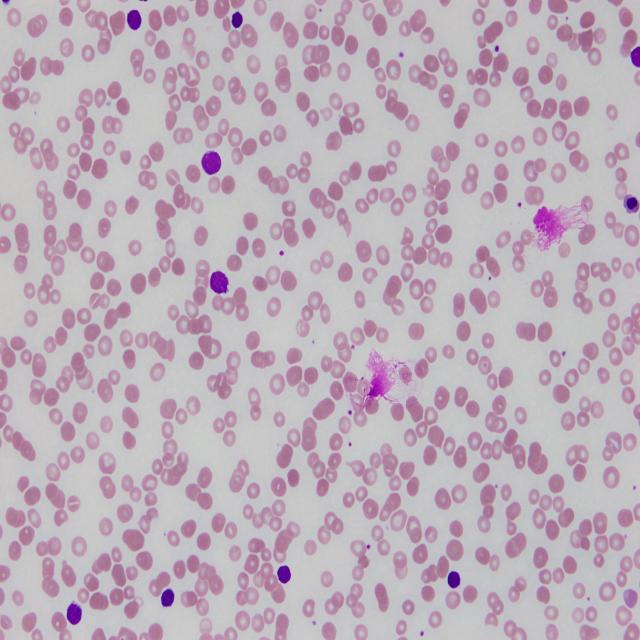cell: (201, 152, 221, 175), (210, 270, 229, 293), (66, 602, 82, 625), (126, 10, 141, 30), (161, 588, 175, 607), (278, 565, 291, 583), (448, 572, 460, 588), (231, 12, 242, 28)
